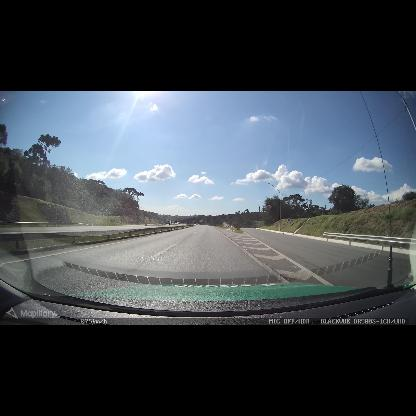O-MP: (237, 222, 240, 230)
R-19: (286, 218, 292, 223)
